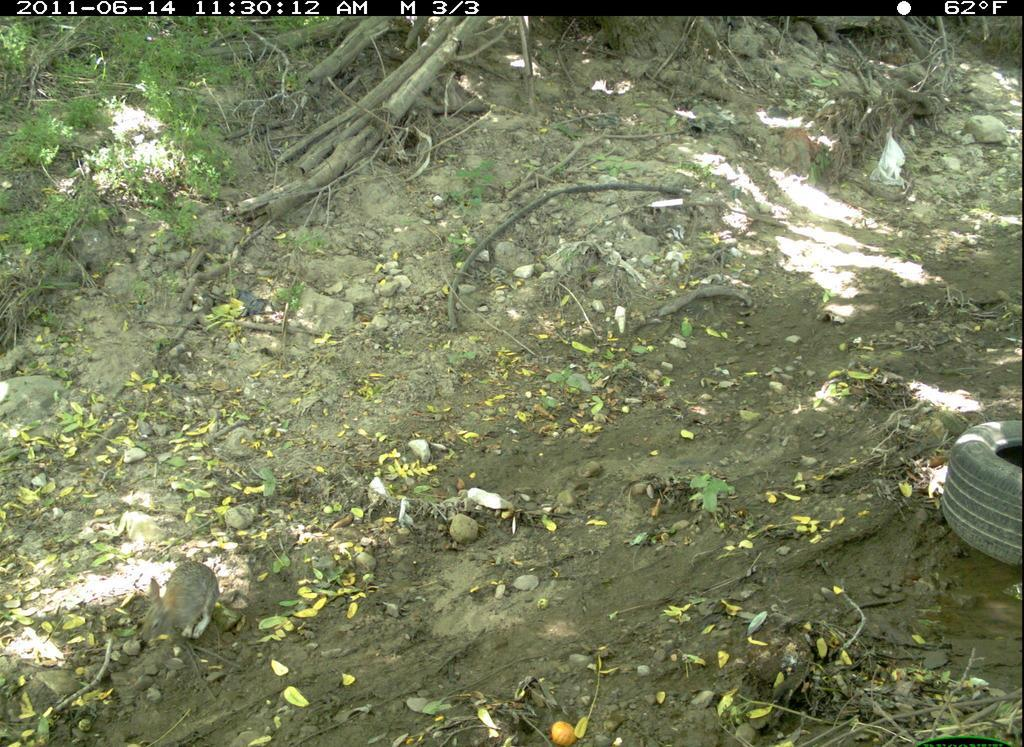rabbit: (135, 564, 263, 661)
